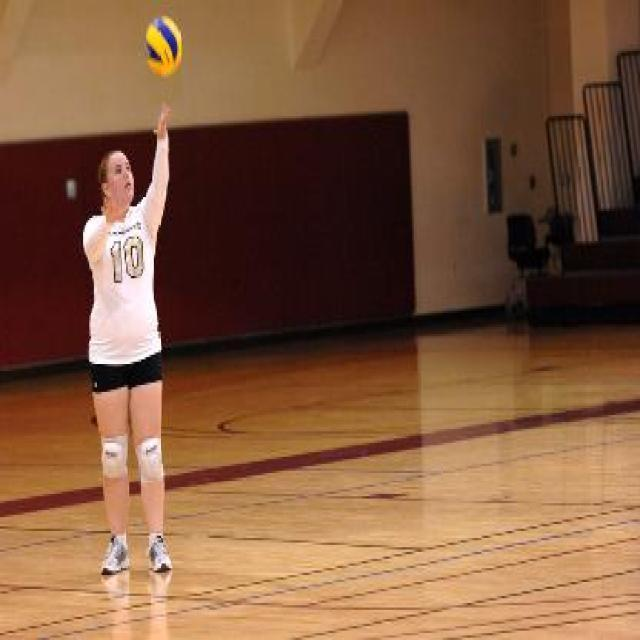volleyball: (144, 15, 183, 76)
